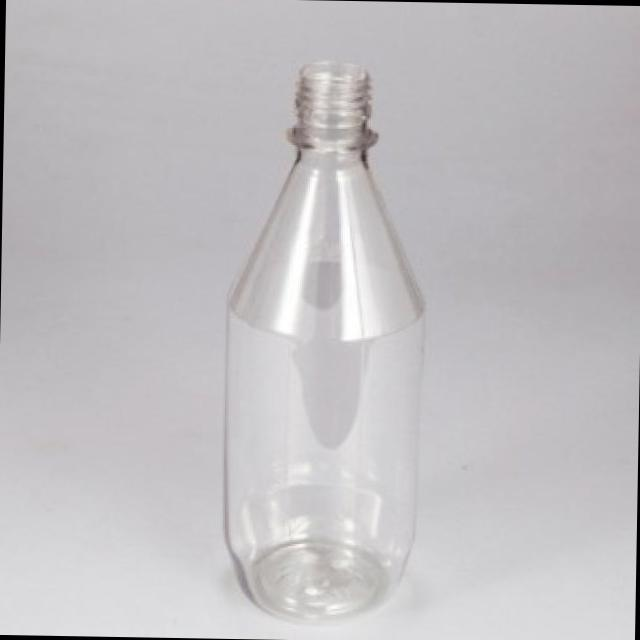plastic_bottle: (220, 58, 428, 620)
